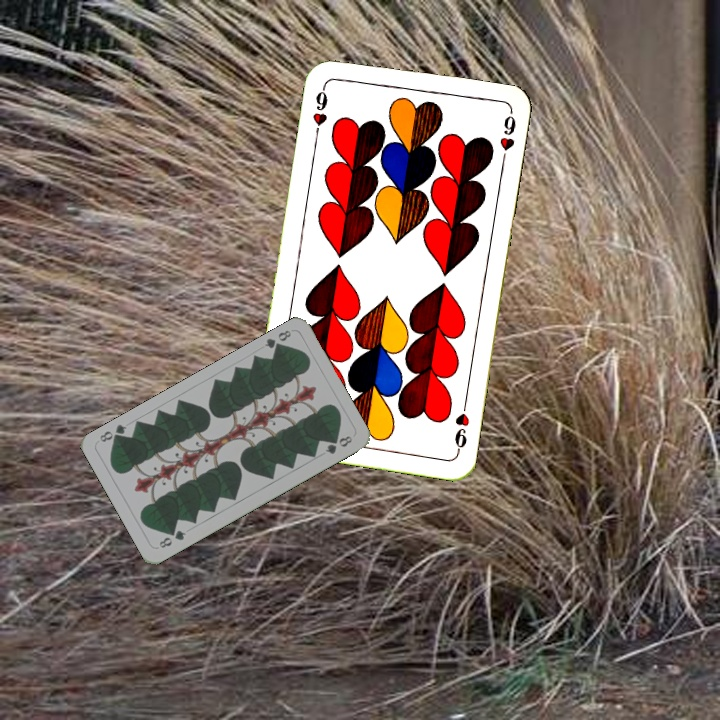G8: (260, 326, 294, 354), (155, 526, 189, 551)
H9: (450, 396, 472, 456), (309, 81, 330, 140)
